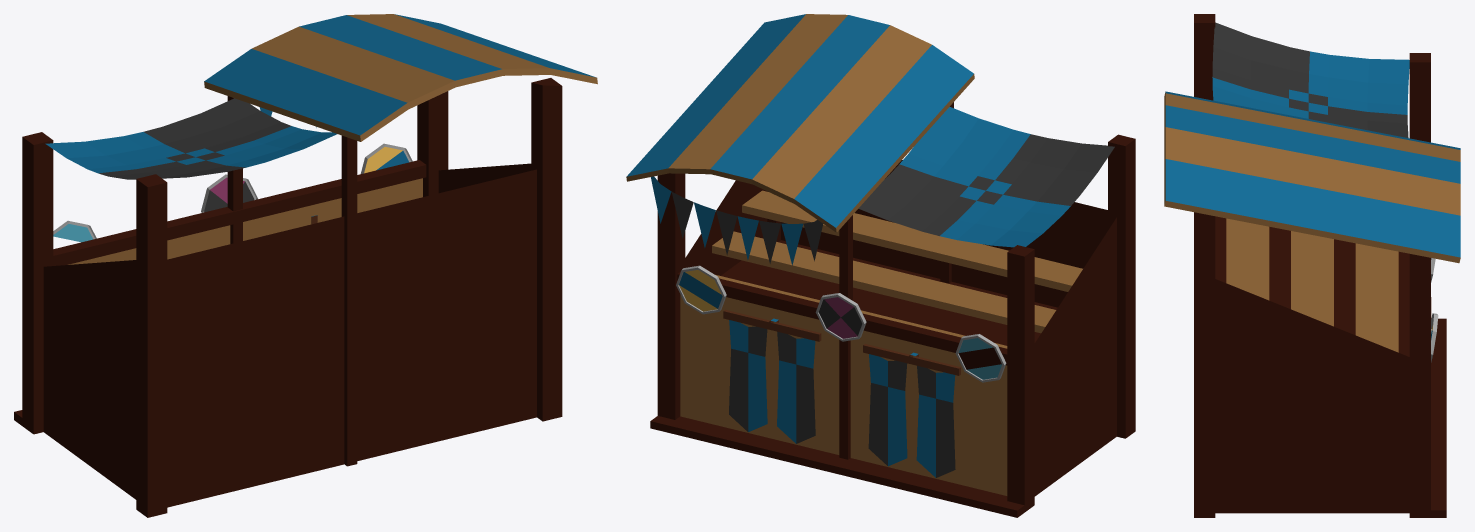
The model's file is TarimaGuerreros.fbx.
3 renders of one model, left to right at view 1: azimuth 30°, elevation 25°; view 2: azimuth 150°, elevation 25°; view 3: azimuth 270°, elevation 25°, orthographic. The views are drawn at different scales.
Visible parts, largest first — view 1: Tarima.001; view 2: Tarima.001; view 3: Tarima.001.
Part boxes in pixels (bbox=[...]): Tarima.001: bbox=[14, 14, 597, 517]; Tarima.001: bbox=[626, 14, 1135, 517]; Tarima.001: bbox=[1164, 14, 1460, 517].
Size of the model in its own units: 550 by 456 by 344.
